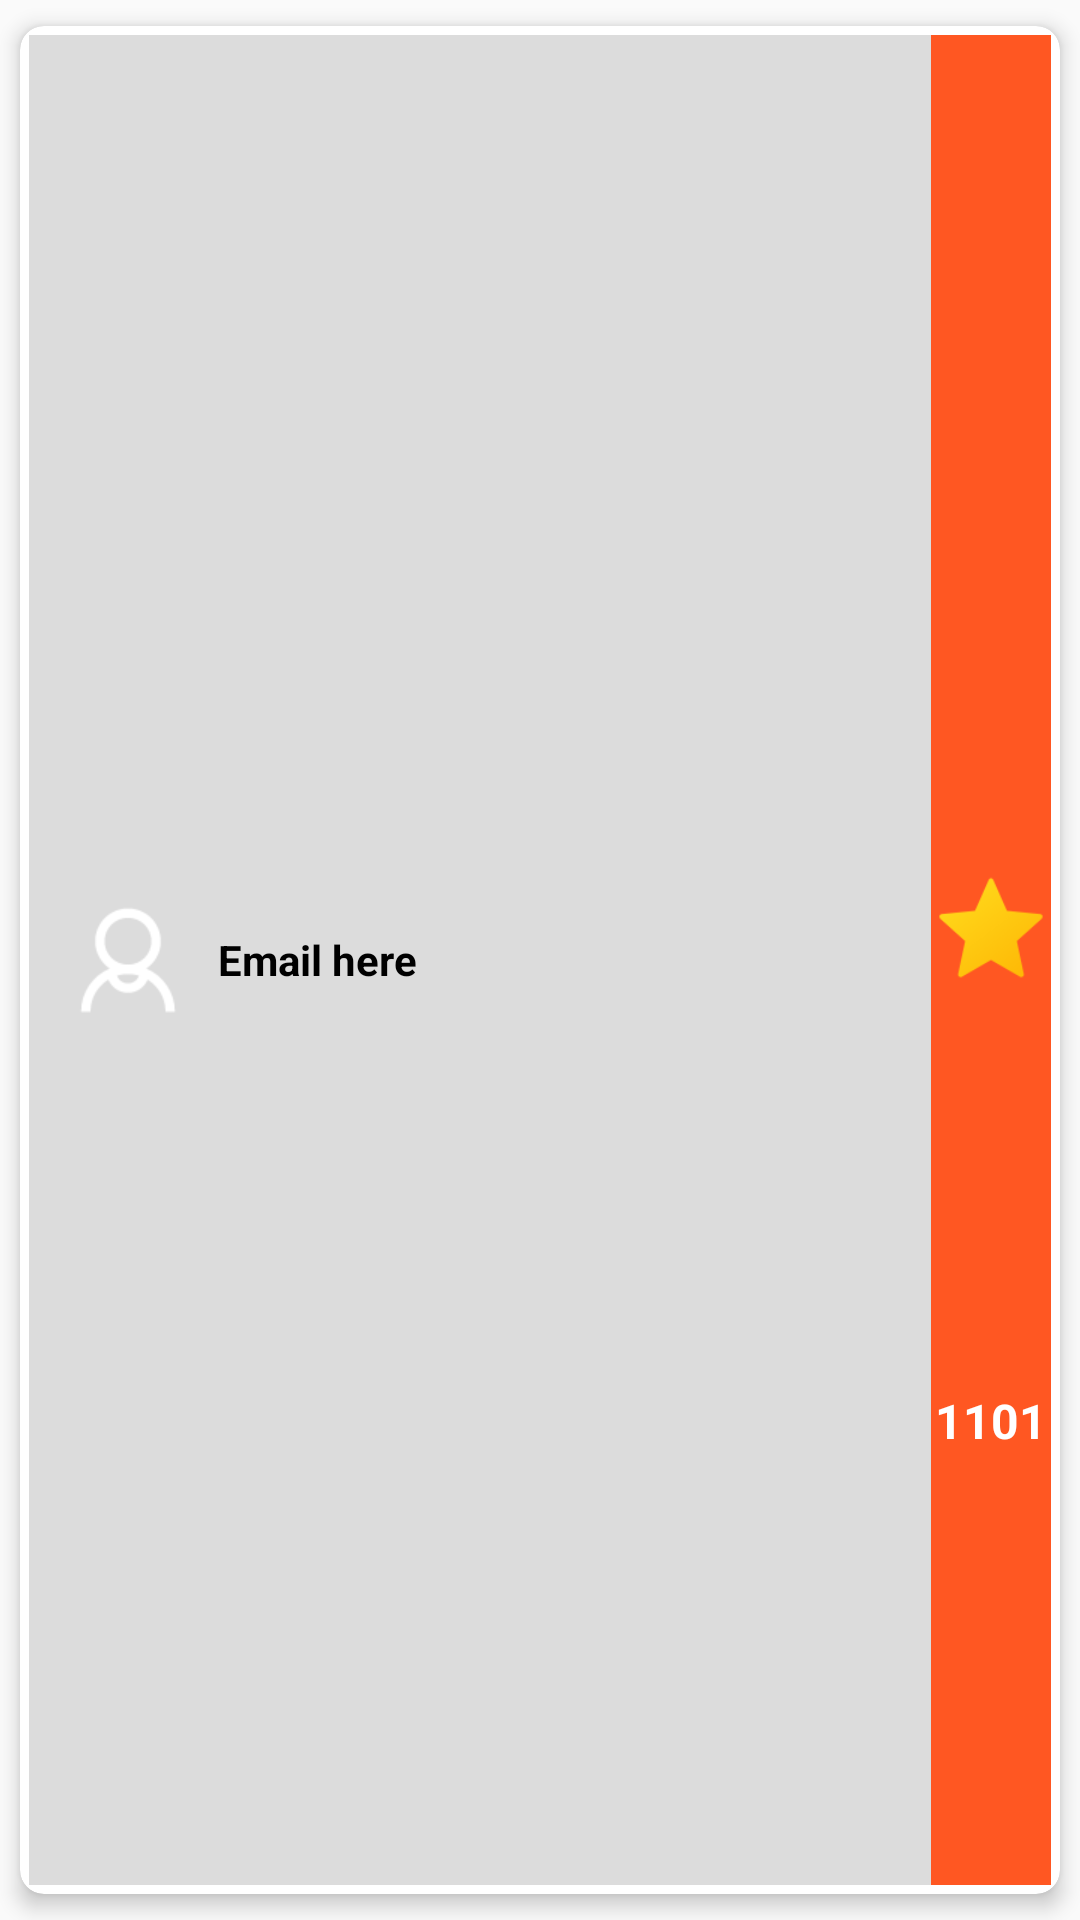

Point at icon controls on the screen. Image size 1080 × 1920, points as point (x, y).
user: point (128, 960)
